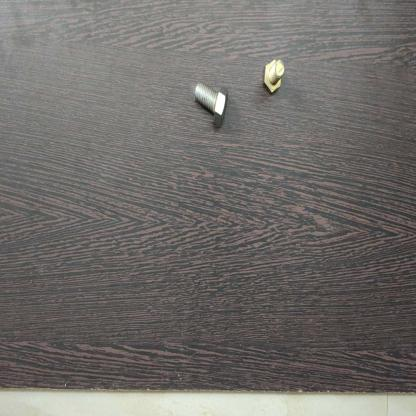Bolts: (194, 80, 235, 138), (259, 53, 286, 98)
